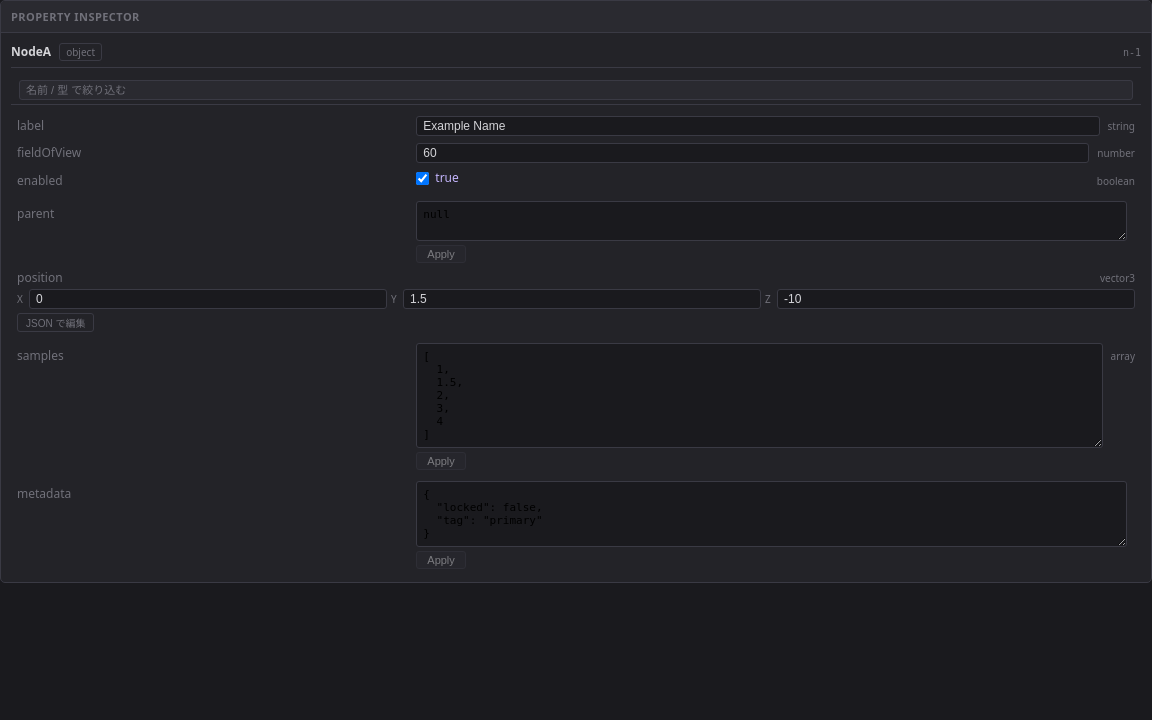
PropertyInspectorPanel — JSON editor › shows an inline error for invalid JSON and does not commit
Replace the text in the text box in the row of "samples" with "[1, 2,": (759, 396) left=416, top=344, right=1103, bottom=448
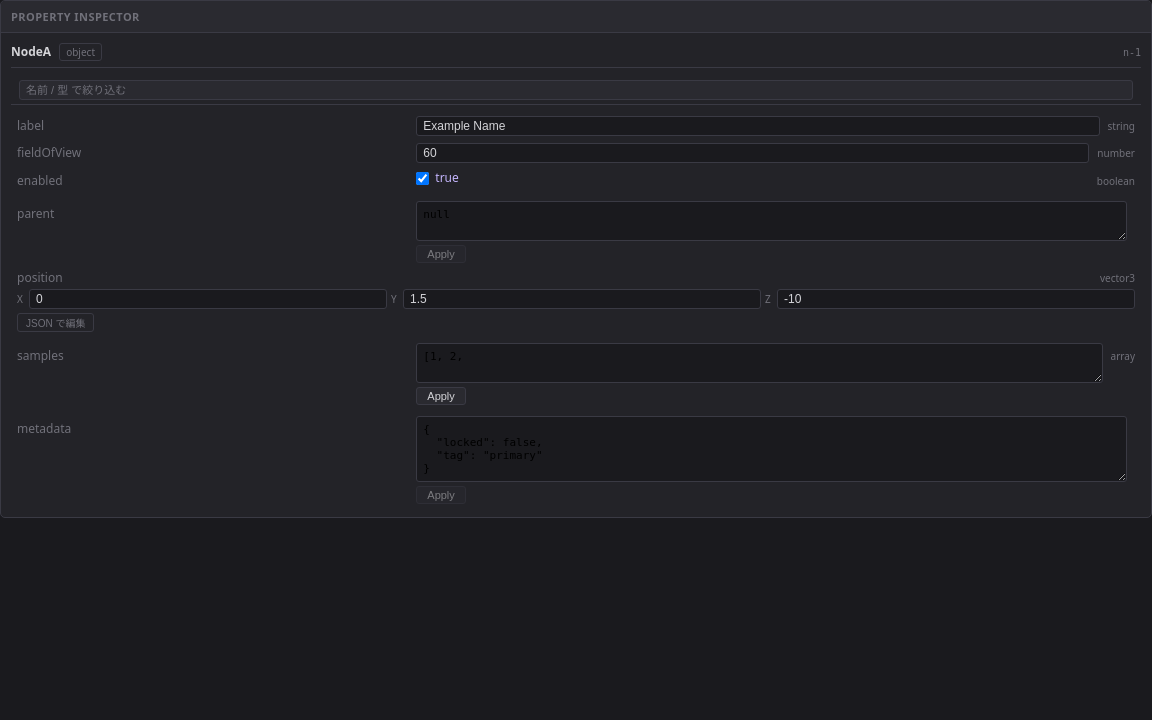
Click the 2nd button "Apply": (441, 396) left=416, top=388, right=466, bottom=406
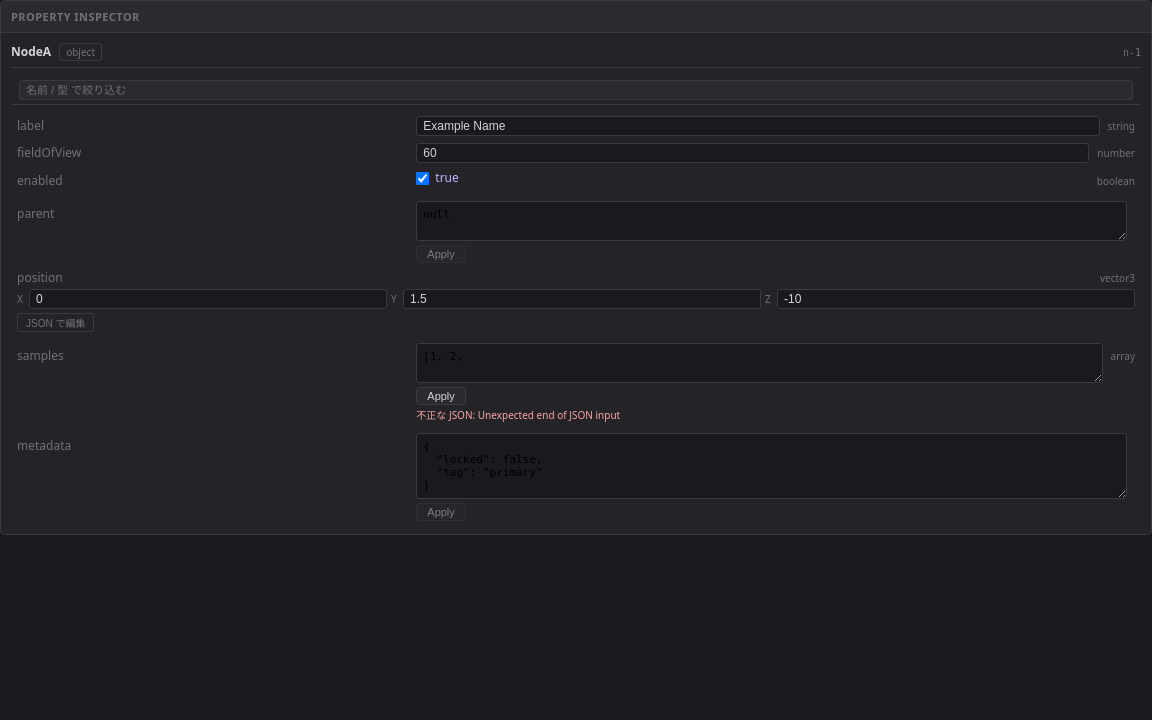
Expected: the text "不正な JSON: Unexpected end of JSON input" is shown, left=416, top=408, right=620, bottom=422
